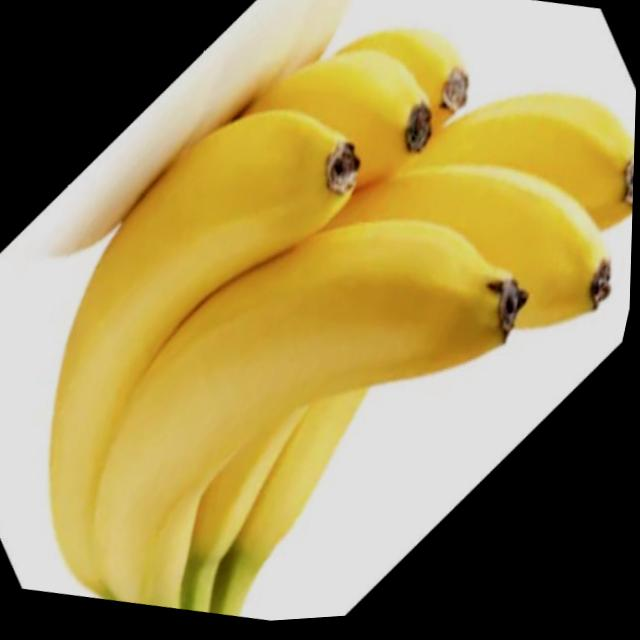Banana: (14, 0, 640, 638)
